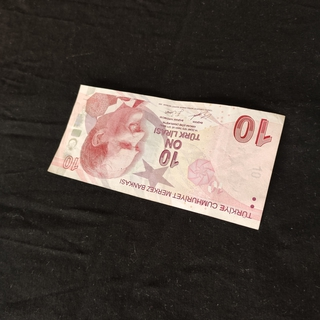10TLFront: (46, 82, 287, 230)
